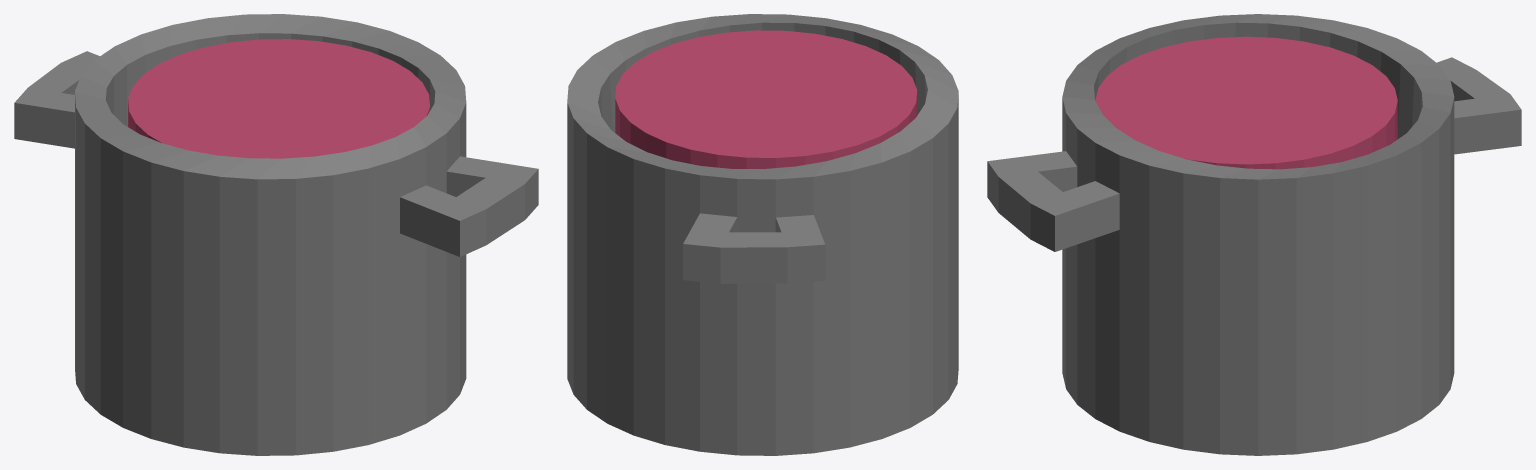
The model's file is OllaFresaBien.fbx.
3 renders of one model, left to right at view 1: azimuth 30°, elevation 25°; view 2: azimuth 150°, elevation 25°; view 3: azimuth 270°, elevation 25°, orthographic.
Parts seen in each view (by area): view 1: Cylinder, Cylinder.001; view 2: Cylinder, Cylinder.001; view 3: Cylinder, Cylinder.001.
Part boxes in pixels (x1,y1,x2,y2): Cylinder: [14, 14, 538, 455]; Cylinder.001: [128, 39, 429, 158]; Cylinder: [567, 14, 958, 455]; Cylinder.001: [615, 30, 917, 168]; Cylinder: [987, 14, 1521, 455]; Cylinder.001: [1095, 36, 1397, 169].
Bounding box in the file's own units: 45 × 35.99 × 61.33.
